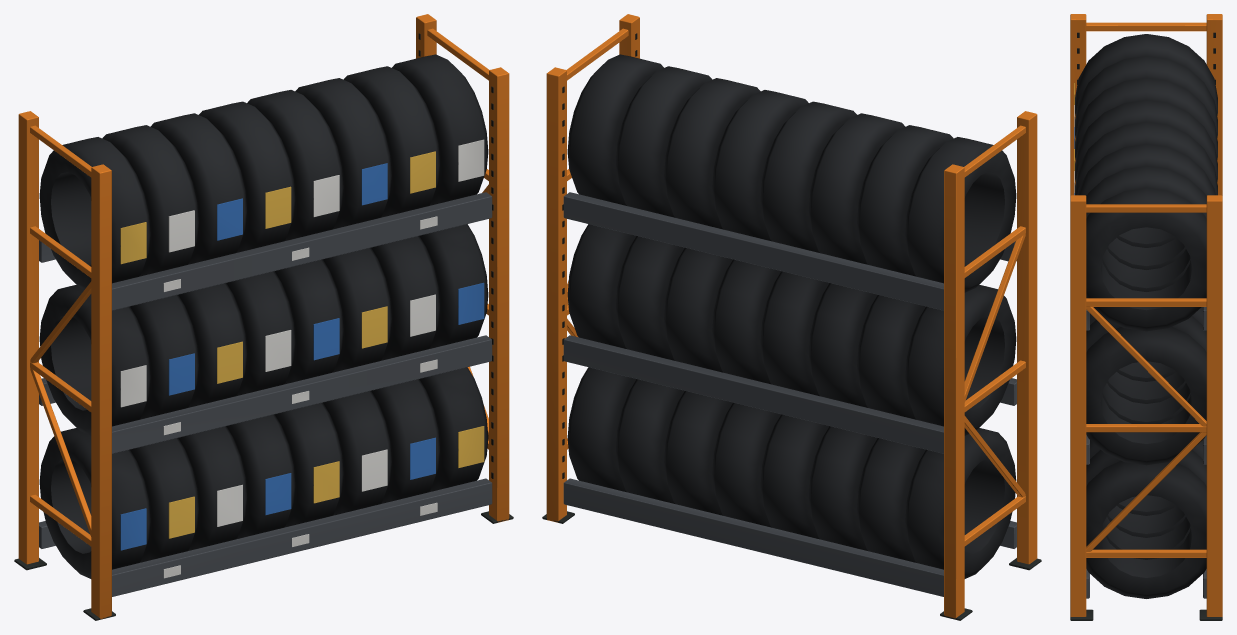
File: tyreRack.glb
3 renders of one model, left to right at view 1: azimuth 30°, elevation 25°; view 2: azimuth 150°, elevation 25°; view 3: azimuth 270°, elevation 25°, orthographic. The views are drawn at different scales.
Parts seen in each view (by area): view 1: tyreRack; view 2: tyreRack; view 3: tyreRack.
Part boxes in pixels (<box>): tyreRack: <box>14,14,513,620</box>; tyreRack: <box>542,14,1041,620</box>; tyreRack: <box>1070,14,1222,620</box>.
Bounding box in the file's own units: 1.96 × 2 × 0.66.
